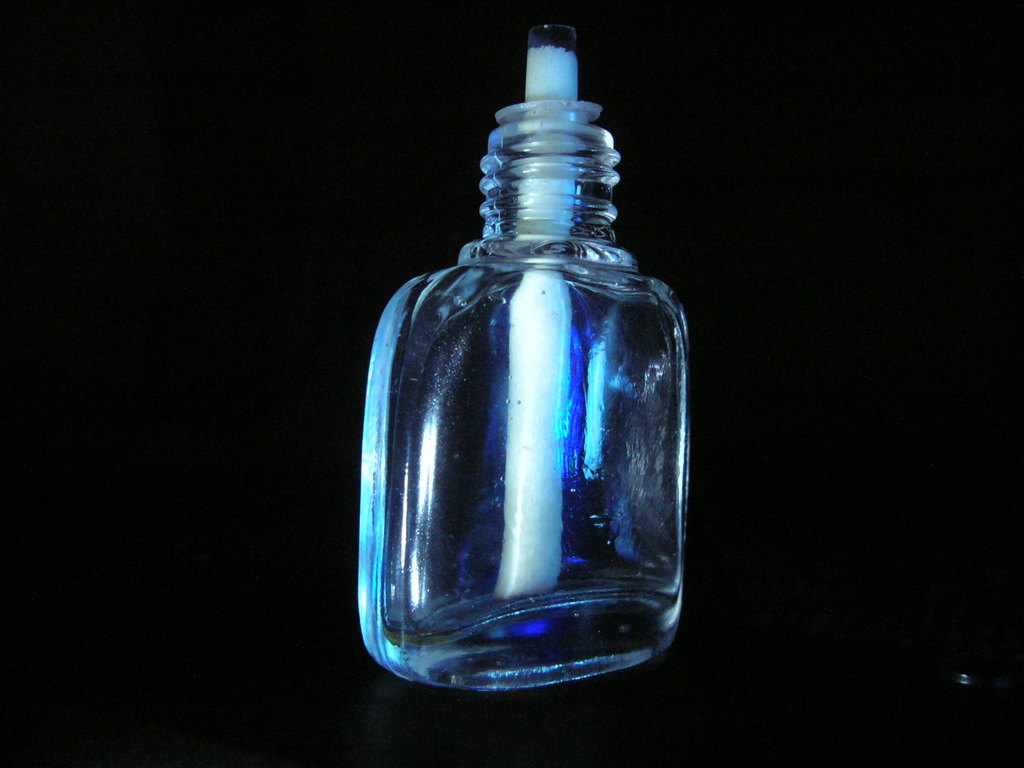can: (357, 98, 691, 693)
